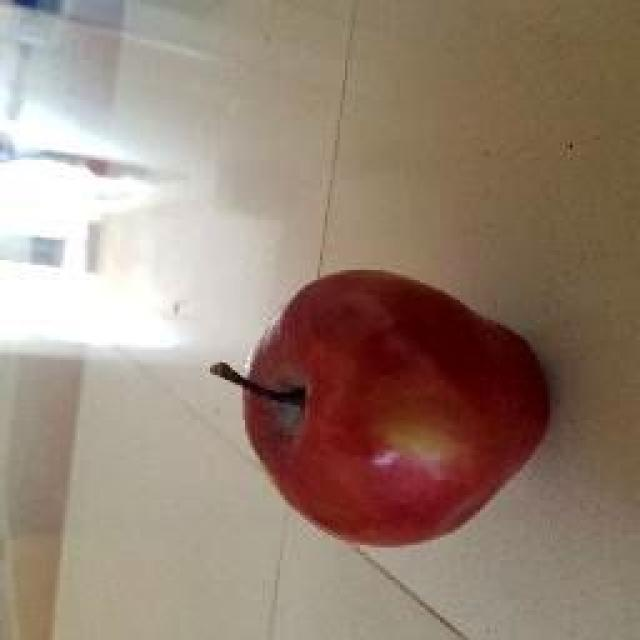Good_Apple: (240, 271, 548, 544)
